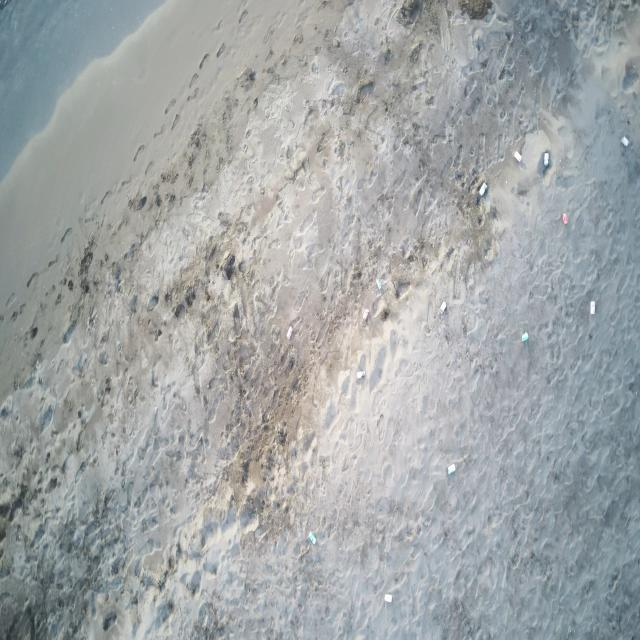Garbage: (221, 253, 235, 279), (540, 151, 550, 175), (477, 181, 487, 196), (307, 532, 316, 544), (375, 278, 383, 291), (355, 370, 364, 379), (543, 151, 548, 167), (362, 309, 368, 322), (448, 464, 455, 475), (440, 300, 446, 312), (286, 327, 292, 339), (513, 151, 520, 161), (520, 332, 527, 342), (560, 213, 567, 223), (590, 300, 595, 313), (620, 136, 627, 145), (384, 593, 391, 602)
